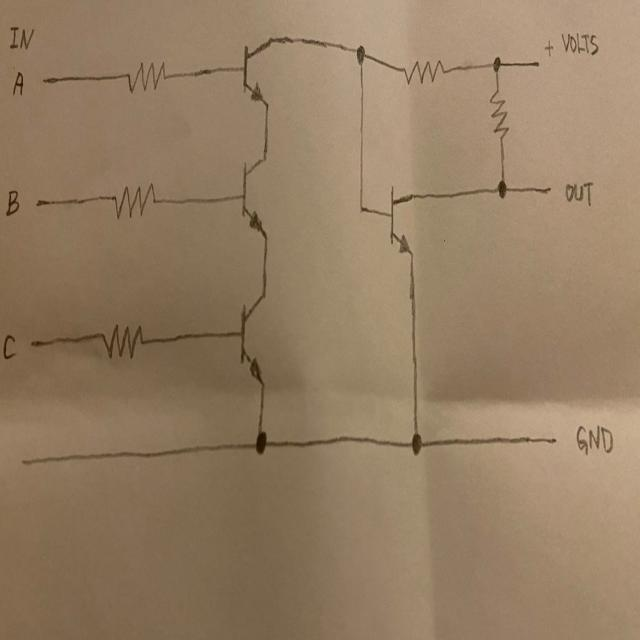junction: (400, 414, 430, 467), (243, 419, 277, 465), (348, 30, 373, 76), (492, 169, 511, 203), (488, 50, 505, 77)
resistor: (98, 312, 150, 364), (110, 174, 160, 225), (122, 53, 170, 100), (396, 53, 452, 89), (488, 84, 514, 148)
terminal: (17, 450, 32, 474), (32, 192, 44, 211), (39, 72, 50, 88), (544, 181, 554, 198), (550, 433, 560, 448), (533, 56, 542, 70), (28, 335, 36, 350)
text: (574, 418, 616, 456), (562, 173, 596, 211), (560, 28, 603, 57), (7, 17, 35, 55), (8, 66, 32, 99), (4, 182, 21, 226), (2, 328, 18, 369), (543, 34, 557, 62)
transistor: (232, 284, 284, 394), (236, 145, 284, 245), (235, 24, 287, 116), (377, 174, 429, 262)
